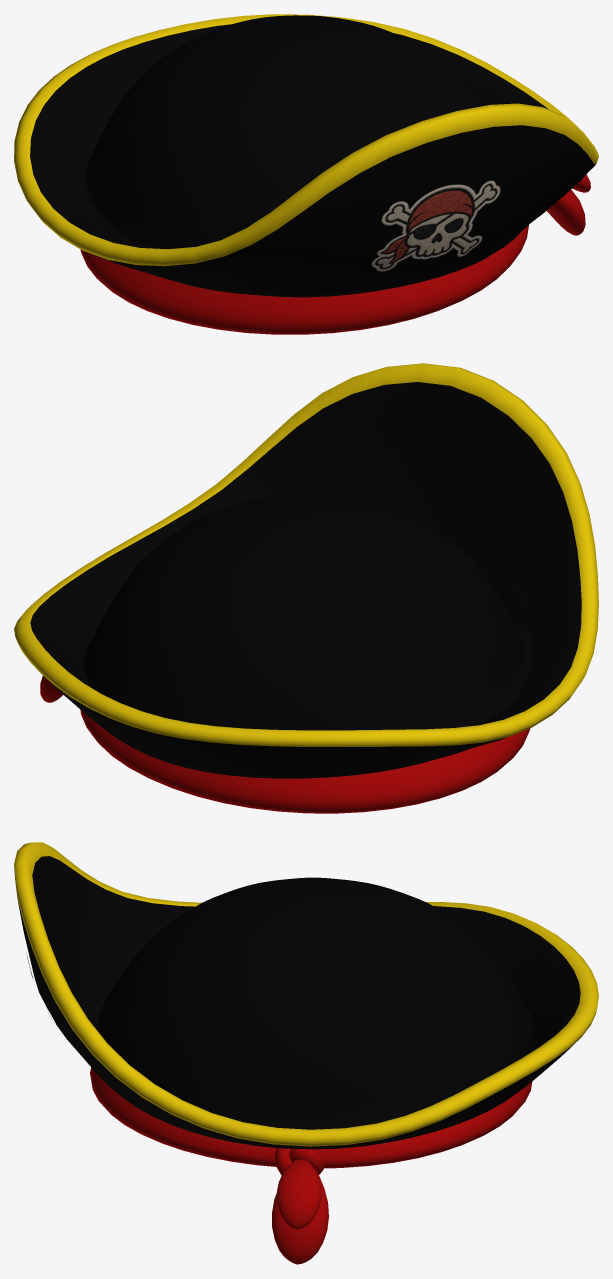
Rendered from piratehat.glb.
3 renders of one model, top to bottom at view 1: azimuth 30°, elevation 25°; view 2: azimuth 150°, elevation 25°; view 3: azimuth 270°, elevation 25°, orthographic. The views are drawn at different scales.
Visible parts, largest first — view 1: Sphere001, Torus001, patch, Sphere003; view 2: Sphere001, Torus001; view 3: Sphere001, Torus001, Sphere004, Sphere003, Torus Knot001.
Boxes of the visible parts, bbox=[...] form: Sphere001: bbox=[14, 14, 598, 297]; Torus001: bbox=[80, 225, 528, 334]; patch: bbox=[371, 180, 500, 271]; Sphere003: bbox=[546, 189, 585, 235]; Sphere001: bbox=[14, 363, 598, 778]; Torus001: bbox=[80, 709, 530, 813]; Sphere001: bbox=[14, 842, 598, 1149]; Torus001: bbox=[90, 1067, 532, 1168]; Sphere004: bbox=[277, 1159, 321, 1229]; Sphere003: bbox=[272, 1169, 328, 1264]; Torus Knot001: bbox=[274, 1148, 324, 1175].
Size of the model in its own units: 2.58 by 1.37 by 2.6.
4 materials, 1 textured.
